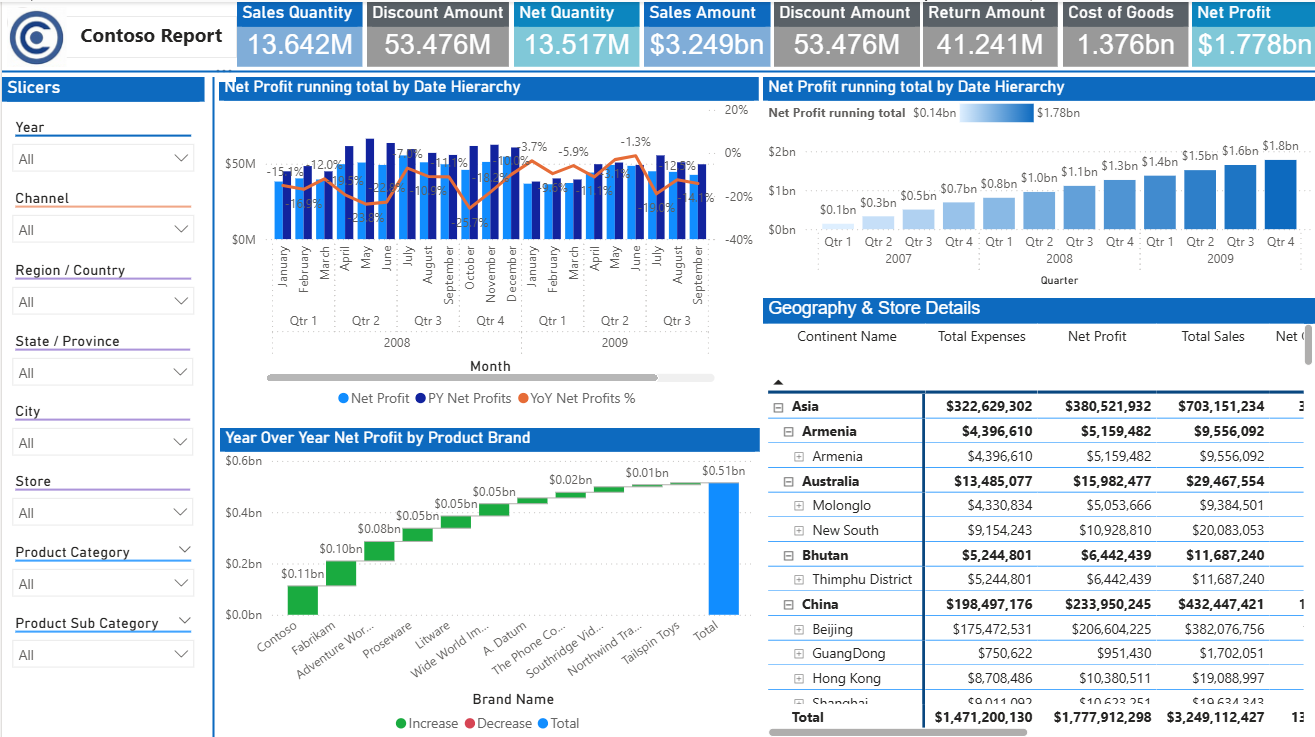

The page's visual inventory and layout, read from the dashboard file:
{"tool":"powerbi","page":{"name":"Page 1","canvas":[1280,720],"ordinal":0},"visuals":[{"type":"textbox","title":"Slicers","box":[0,73,197,647],"z":0},{"type":"pivotTable","title":"Geography & Store Details","fields":{"Values":["DAX Table.Total Expenses","DAX Table.Net Profit","DAX Table.Total Sales","DAX Table.Net Quantity","DAX Table.Order Count","DAX Table.YoY Net Profits %","DAX Table.YoY Net Profits","DAX Table.Average Order Amount"],"Rows":["Geography.Continent Name Hierarchy.Continent Name","Geography.Continent Name Hierarchy.Region Country Name","Geography.Continent Name Hierarchy.State Province Name","Geography.Continent Name Hierarchy.City Name","Store.Store Name"]},"box":[740,288,540,432],"z":1000},{"type":"clusteredColumnChart","title":"Net Profit running total by Date Hierarchy","fields":{"Y":["DAX Table.Net Profit running total"],"Category":["Calender.Date.Variation.Date Hierarchy.Year","Calender.Date.Variation.Date Hierarchy.Quarter","Calender.Date.Variation.Date Hierarchy.Month","Calender.Date.Variation.Date Hierarchy.Day"]},"box":[740,73,540,208],"z":2000},{"type":"actionButton","box":[0,0,100,40],"z":3000},{"type":"lineClusteredColumnComboChart","title":"Net Profit running total by Date Hierarchy","fields":{"Y":["DAX Table.Net Profit","DAX Table.PY Net Profits"],"Y2":["DAX Table.YoY Net Profits %"],"Category":["Calender.Date.Variation.Date Hierarchy.Year","Calender.Date.Variation.Date Hierarchy.Quarter","Calender.Date.Variation.Date Hierarchy.Month","Calender.Date.Variation.Date Hierarchy.Day"]},"box":[211,73,525,331],"z":4000},{"type":"slicer","title":"Year Over Year Net Profit by Product Brand","fields":{"Values":["Product Master.Product Subcategory Name"]},"box":[0,590,197,60],"z":5000},{"type":"textbox","box":[61,14,168,40],"z":6000},{"type":"card","title":"Cost of Goods","fields":{"Values":["DAX Table.Total Cost"]},"box":[1032,0,122,63],"z":7000},{"type":"card","title":"Discount Amount","fields":{"Values":["DAX Table.Discount Amount"]},"box":[751,0,142,63],"z":8000},{"type":"card","title":"Return Amount","fields":{"Values":["DAX Table.Return Amount"]},"box":[896,0,131,63],"z":9000},{"type":"card","title":"Sales Amount","fields":{"Values":["DAX Table.Total Sales"]},"box":[624,0,123,63],"z":10000},{"type":"card","title":"Net Profit","fields":{"Values":["DAX Table.Net Profit"]},"box":[1157,0,123,63],"z":11000},{"type":"card","title":"Net Quantity","fields":{"Values":["DAX Table.Net Quantity"]},"box":[498,0,122,63],"z":12000},{"type":"card","title":"Discount Amount","fields":{"Values":["DAX Table.Discount Amount"]},"box":[355,0,138,63],"z":13000},{"type":"card","title":"Sales Quantity","fields":{"Values":["DAX Table.Sales Quantity"]},"box":[229,0,122,63],"z":14000},{"type":"image","box":[0,0,67.8,67.8],"z":15000},{"type":"slicer","title":"Year Over Year Net Profit by Product Brand","fields":{"Values":["Product Master.Product Category Name"]},"box":[0,521,197,59],"z":16000},{"type":"slicer","title":"Year Over Year Net Profit by Product Brand","fields":{"Values":["Channel.Channel Name"]},"box":[0,177,197,60],"z":17000},{"type":"slicer","title":"Year Over Year Net Profit by Product Brand","fields":{"Values":["Geography.Region Country Name"]},"box":[0,247,197,59],"z":18000},{"type":"slicer","title":"Year Over Year Net Profit by Product Brand","fields":{"Values":["Geography.State Province Name"]},"box":[0,316,196,59],"z":19000},{"type":"slicer","title":"Year Over Year Net Profit by Product Brand","fields":{"Values":["Geography.City Name"]},"box":[0,384,196,60],"z":20000},{"type":"slicer","title":"Year Over Year Net Profit by Product Brand","fields":{"Values":["Store.Store Name"]},"box":[0,452,196,59],"z":21000},{"type":"slicer","title":"Year Over Year Net Profit by Product Brand","fields":{"Values":["Calender.Date.Variation.Date Hierarchy.Year"]},"box":[0,108,197,60],"z":22000},{"type":"shape","box":[191.6,72.9,28.2,641.9],"z":23000},{"type":"waterfallChart","title":"Year Over Year Net Profit by Product Brand","fields":{"Category":["Product Master.Brand Name"],"Y":["DAX Table.YoY Net Profits"]},"box":[212,414,525,306],"z":24000},{"type":"shape","box":[0,55.4,1280,24.3],"z":24001}]}

Visuals, with their boxes in screenshot pixels (x1, y1, x2, y2), scaled from the page's 1280x720 canvas onto the 1315x737 screenshot:
"Slicers" textbox: bbox(0, 75, 202, 736)
"Geography & Store Details" pivotTable: bbox(760, 295, 1314, 736)
"Net Profit running total by Date Hierarchy" clusteredColumnChart: bbox(760, 75, 1314, 288)
actionButton: bbox(0, 0, 103, 41)
"Net Profit running total by Date Hierarchy" lineClusteredColumnComboChart: bbox(217, 75, 756, 414)
"Year Over Year Net Profit by Product Brand" slicer: bbox(0, 604, 202, 665)
textbox: bbox(63, 14, 235, 55)
"Cost of Goods" card: bbox(1060, 0, 1186, 64)
"Discount Amount" card: bbox(772, 0, 917, 64)
"Return Amount" card: bbox(920, 0, 1055, 64)
"Sales Amount" card: bbox(641, 0, 767, 64)
"Net Profit" card: bbox(1189, 0, 1314, 64)
"Net Quantity" card: bbox(512, 0, 637, 64)
"Discount Amount" card: bbox(365, 0, 506, 64)
"Sales Quantity" card: bbox(235, 0, 361, 64)
image: bbox(0, 0, 70, 69)
"Year Over Year Net Profit by Product Brand" slicer: bbox(0, 533, 202, 594)
"Year Over Year Net Profit by Product Brand" slicer: bbox(0, 181, 202, 243)
"Year Over Year Net Profit by Product Brand" slicer: bbox(0, 253, 202, 313)
"Year Over Year Net Profit by Product Brand" slicer: bbox(0, 323, 201, 384)
"Year Over Year Net Profit by Product Brand" slicer: bbox(0, 393, 201, 454)
"Year Over Year Net Profit by Product Brand" slicer: bbox(0, 463, 201, 523)
"Year Over Year Net Profit by Product Brand" slicer: bbox(0, 111, 202, 172)
shape: bbox(197, 75, 226, 732)
"Year Over Year Net Profit by Product Brand" waterfallChart: bbox(218, 424, 757, 736)
shape: bbox(0, 57, 1314, 82)
